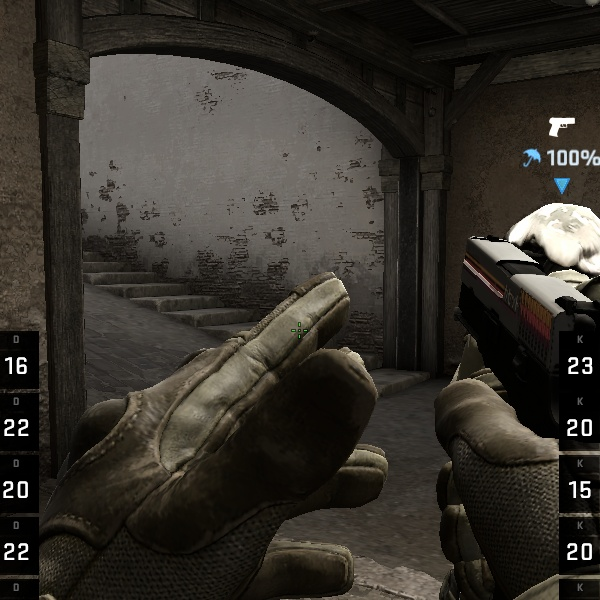ct_body: (378, 180, 587, 599)
ct_head: (483, 189, 600, 323)
